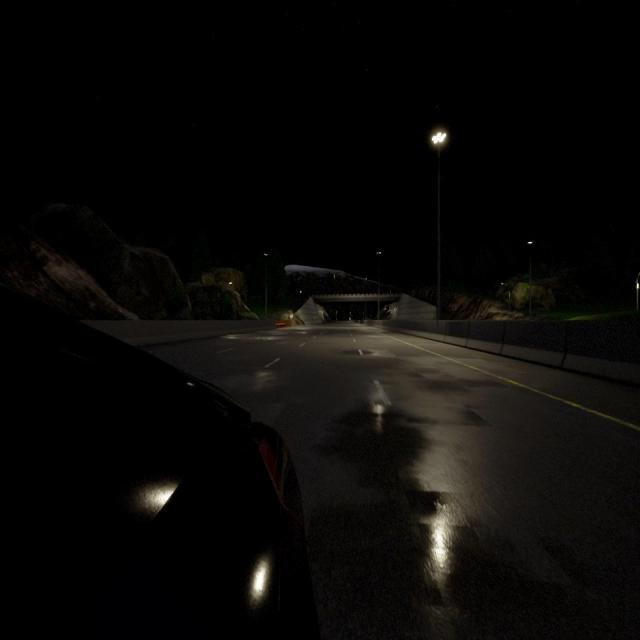Traffic_Signs: (290, 314, 293, 318)
Vehicle: (0, 288, 318, 640)
